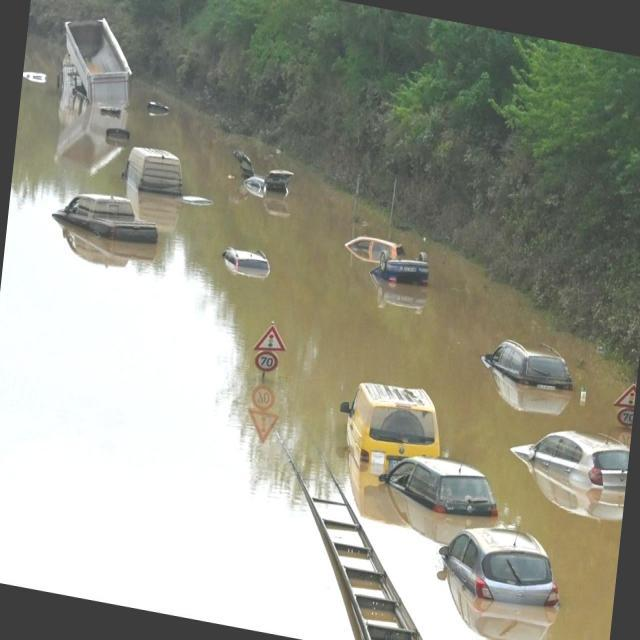flood: (0, 42, 640, 639)
